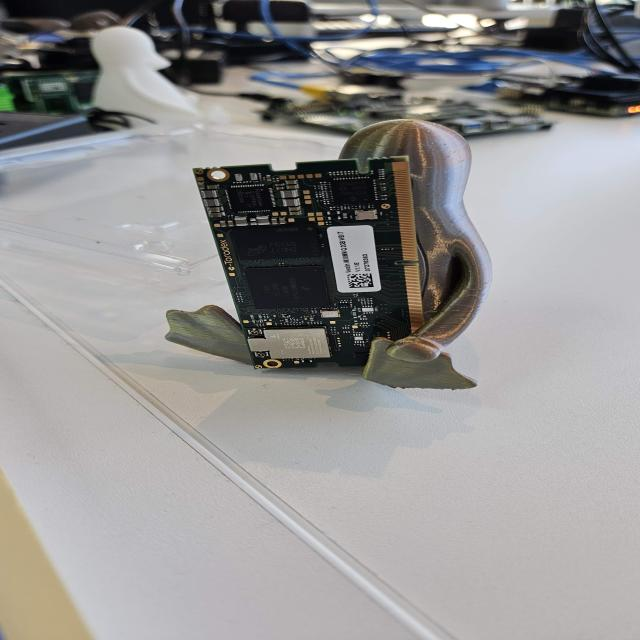som: (176, 154, 459, 375)
